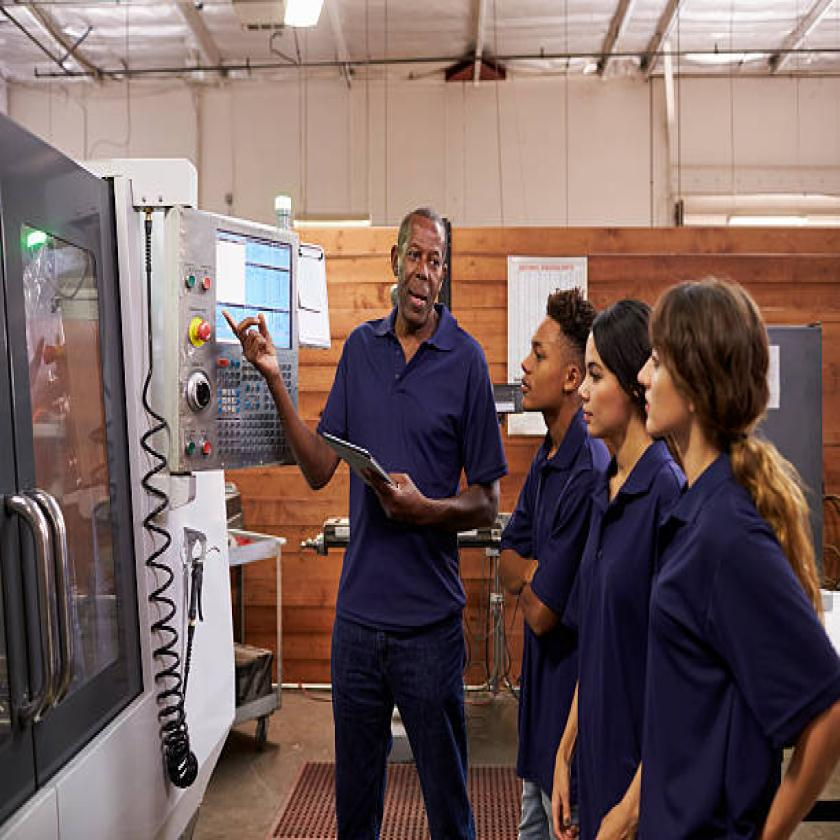Sin_casco: (634, 260, 789, 476), (376, 180, 477, 352), (508, 257, 582, 427), (572, 300, 646, 460)
